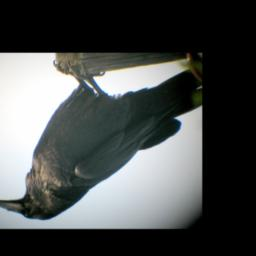Crow: (0, 60, 202, 222)
